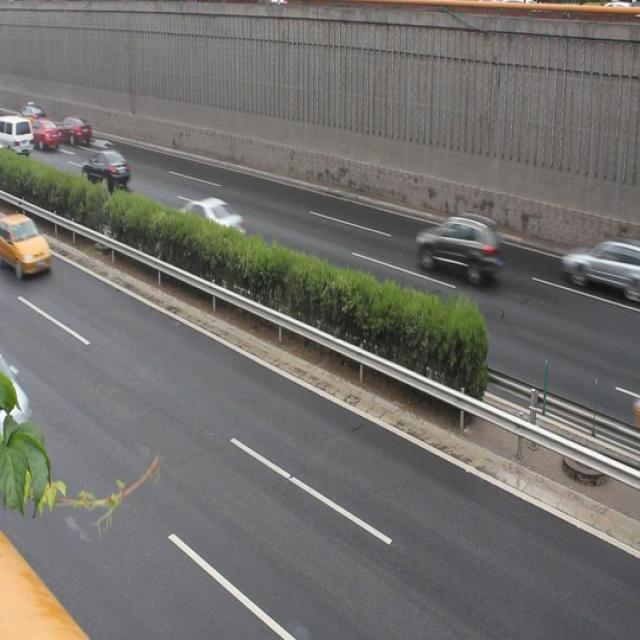car: (412, 206, 501, 282), (552, 229, 640, 300), (177, 190, 247, 251), (0, 207, 52, 278), (85, 143, 130, 194), (56, 108, 90, 149)
